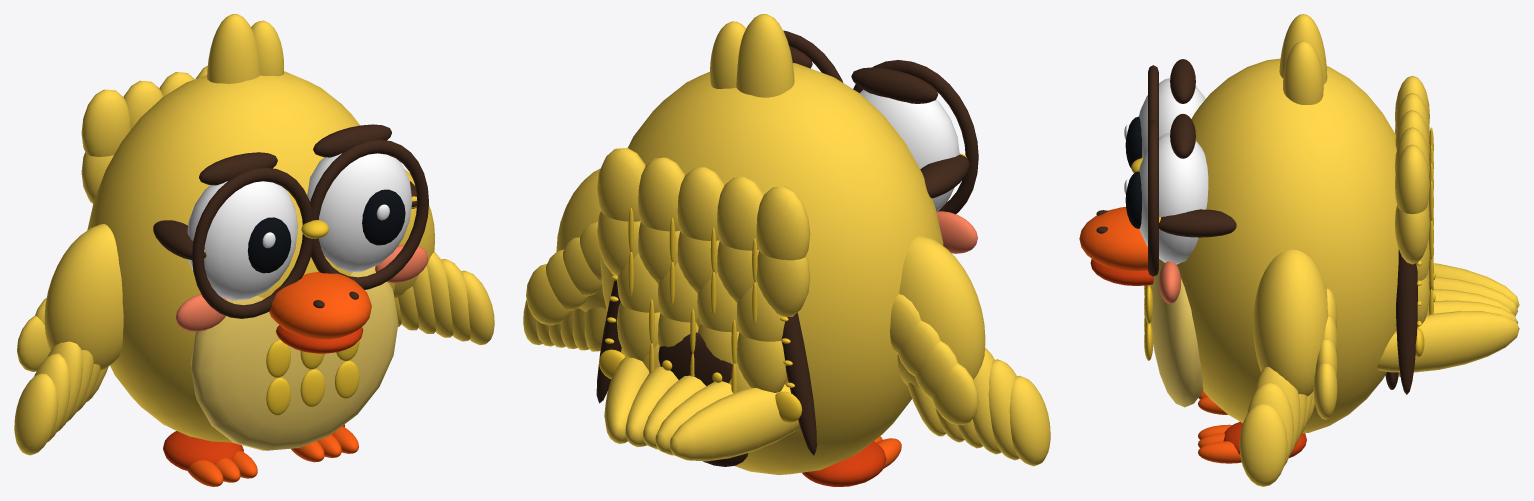
Rendered from bird.glb.
3 renders of one model, left to right at view 1: azimuth 30°, elevation 25°; view 2: azimuth 150°, elevation 25°; view 3: azimuth 270°, elevation 25°, orthographic. The views are drawn at different scales.
Parts seen in each view (by area): view 1: Details, Body, WingL, WingR, BeakLower; view 2: Body, Details, WingL, WingR; view 3: Body, Details, WingR, BeakLower.
Part boxes in pixels (bbox=[...]): Details: bbox=[153, 124, 428, 486]; Body: bbox=[81, 14, 398, 443]; WingL: bbox=[14, 224, 123, 455]; WingR: bbox=[393, 169, 494, 345]; BeakLower: bbox=[276, 325, 363, 353]; Body: bbox=[597, 14, 943, 474]; Details: bbox=[596, 30, 978, 486]; WingL: bbox=[890, 235, 1050, 466]; WingR: bbox=[523, 168, 607, 351]; Body: bbox=[1176, 14, 1519, 433]; Details: bbox=[1079, 59, 1435, 463]; WingR: bbox=[1239, 249, 1337, 486]; BeakLower: bbox=[1090, 259, 1153, 285].
Size of the model in its own units: 2.9 by 2.48 by 2.38.
Materials: 2 (1 with a texture image).
